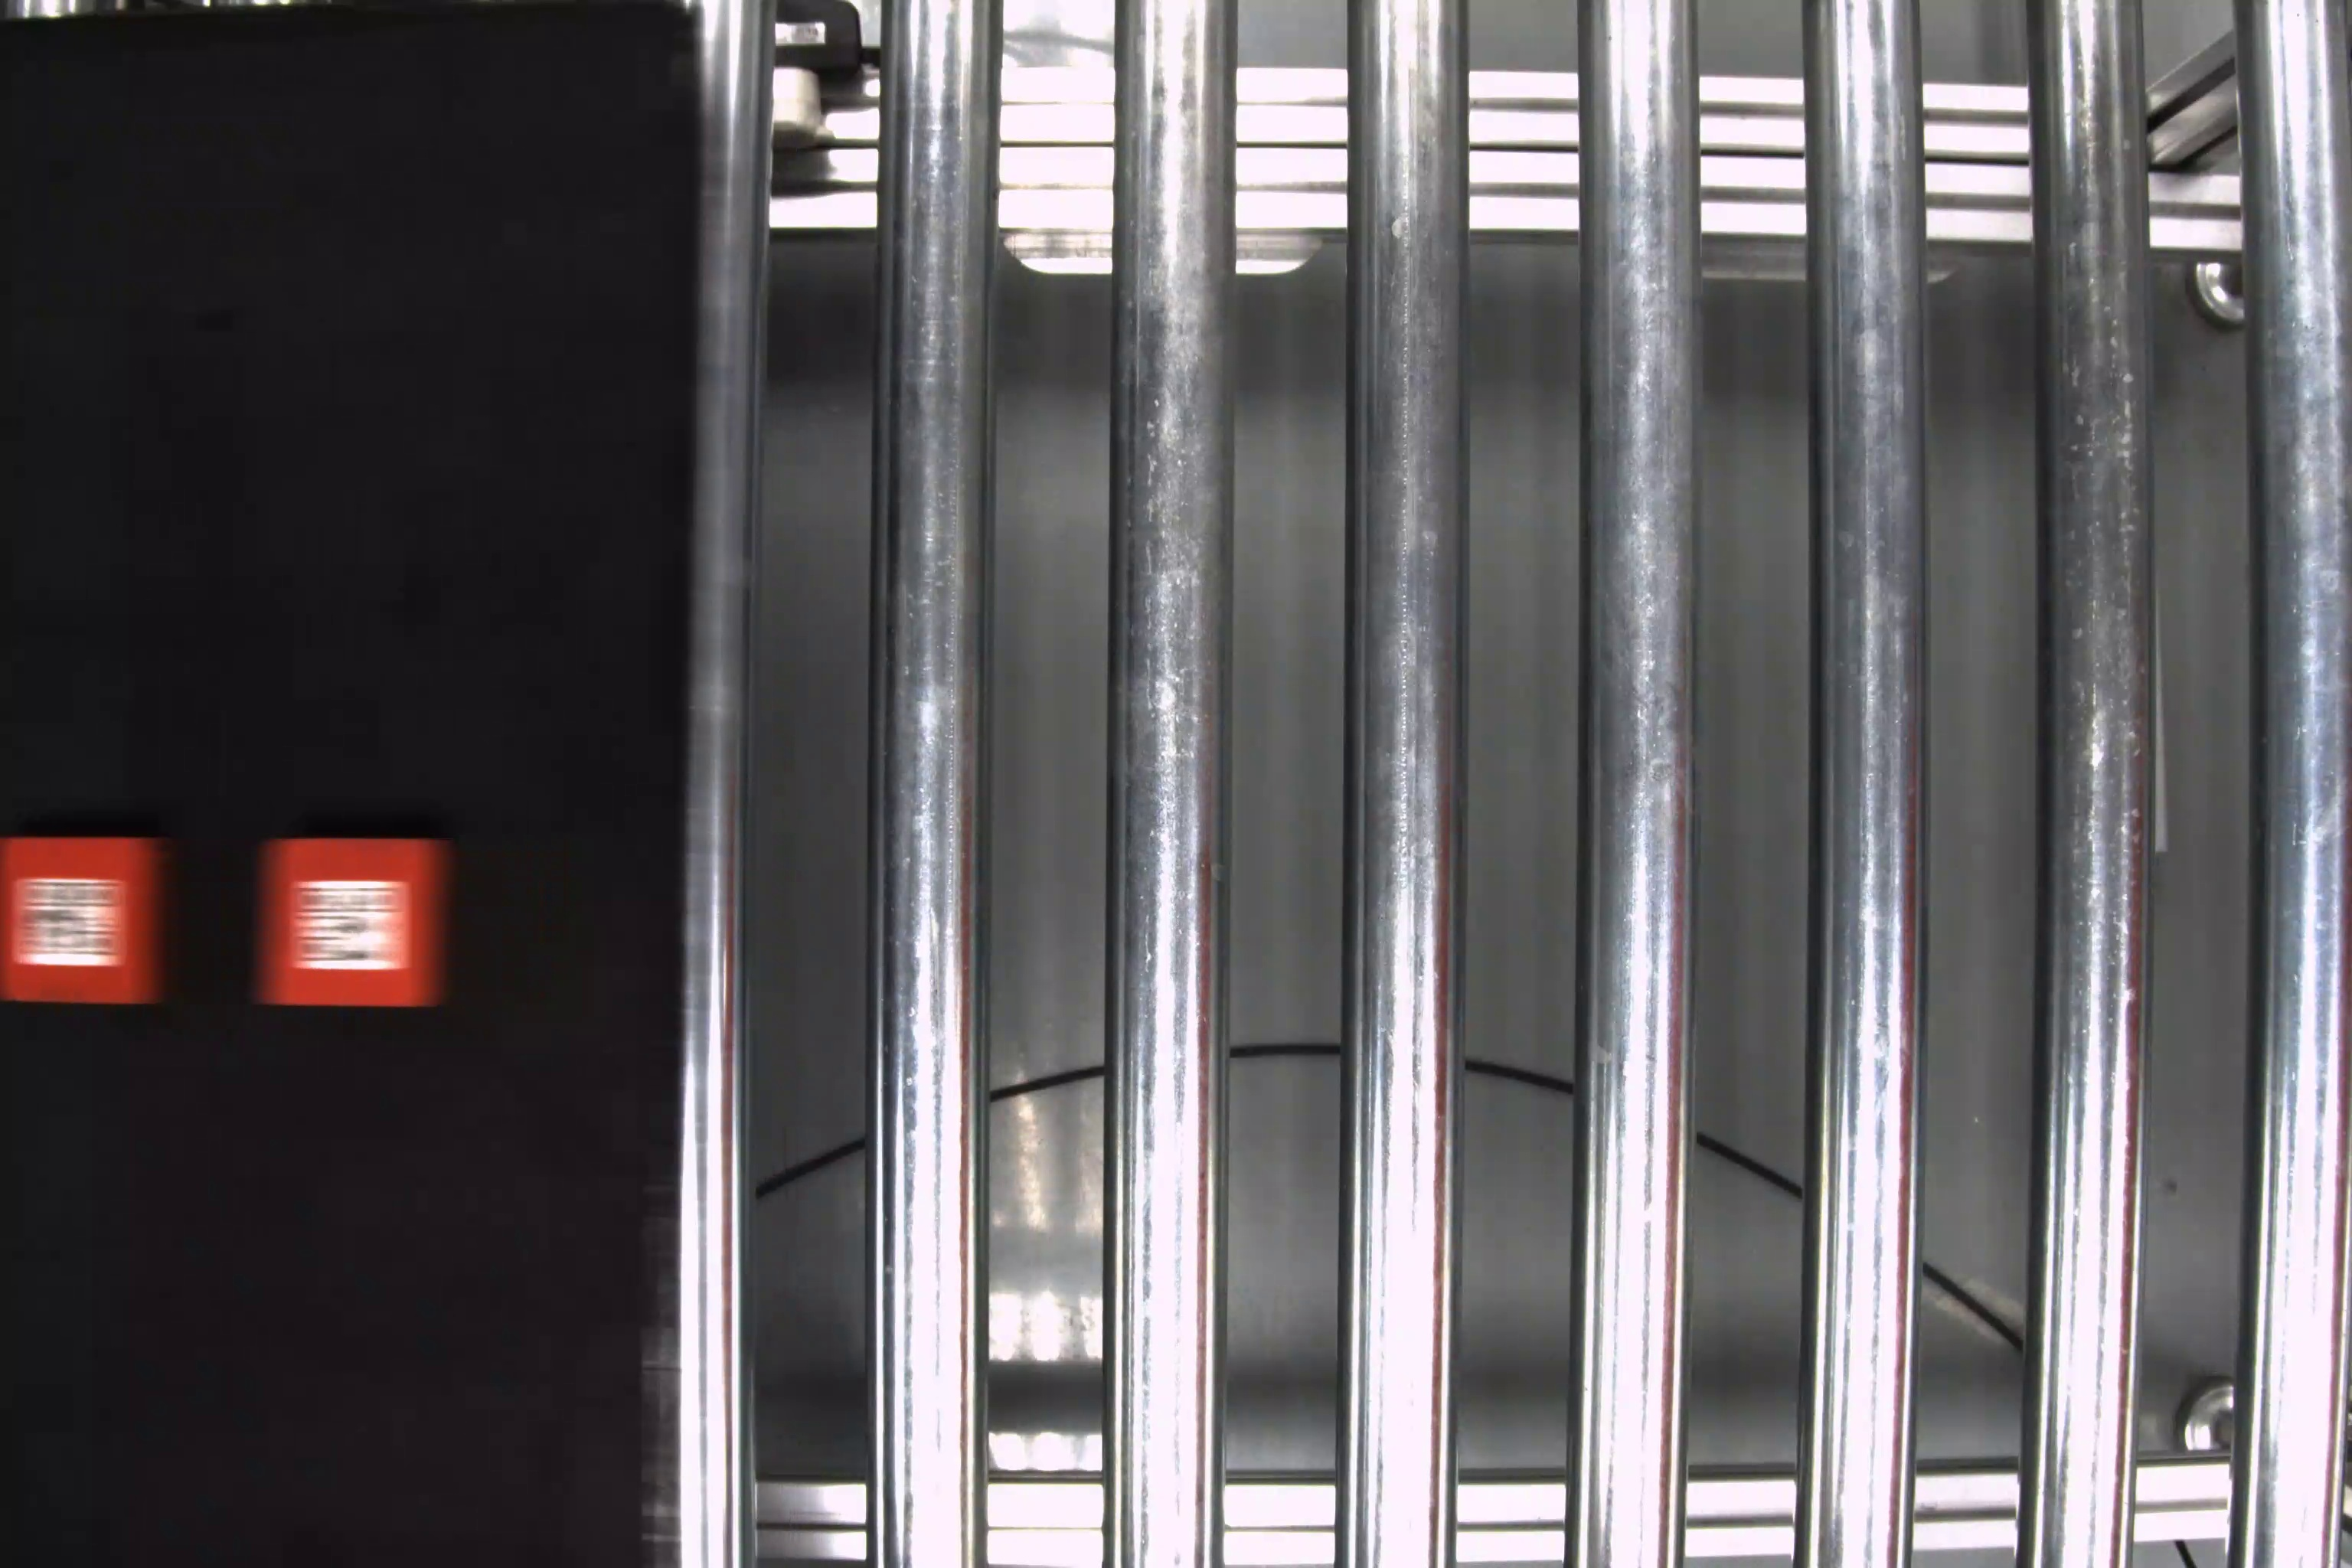wood: (257, 842, 471, 1008), (5, 840, 182, 1006)
